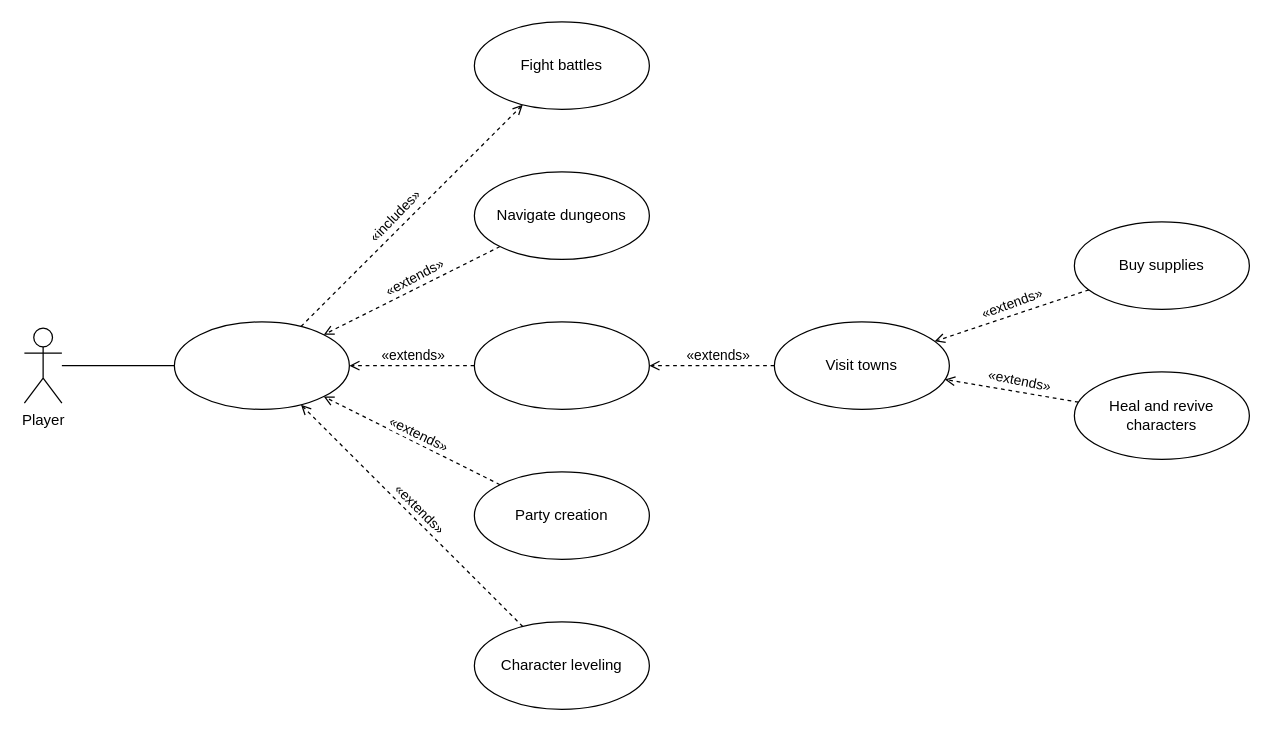
This 1271x731 diagram has some shape labels left out. Each missing label, with the box of its shape:
Defeat monsters: (173, 321, 349, 409)
Travel the world: (473, 321, 649, 409)
